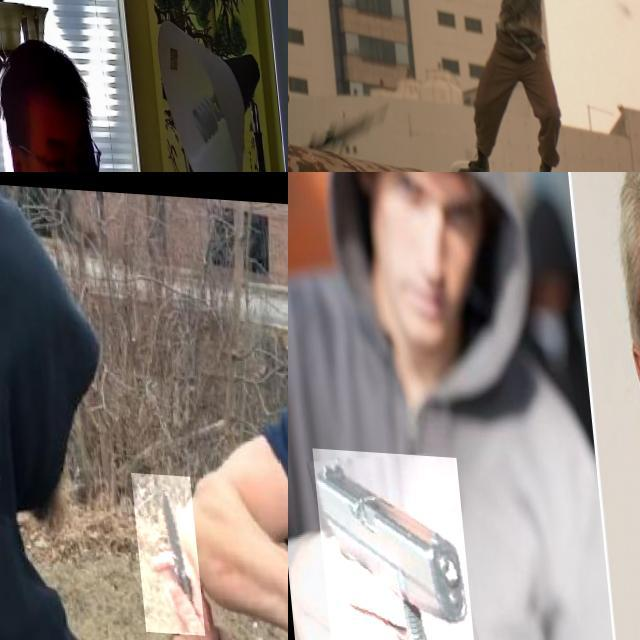-: (126, 468, 197, 630)
gun-knife-thesis - v11 Yolov5 augmented: (305, 447, 464, 640), (574, 0, 640, 109), (288, 0, 331, 69)
